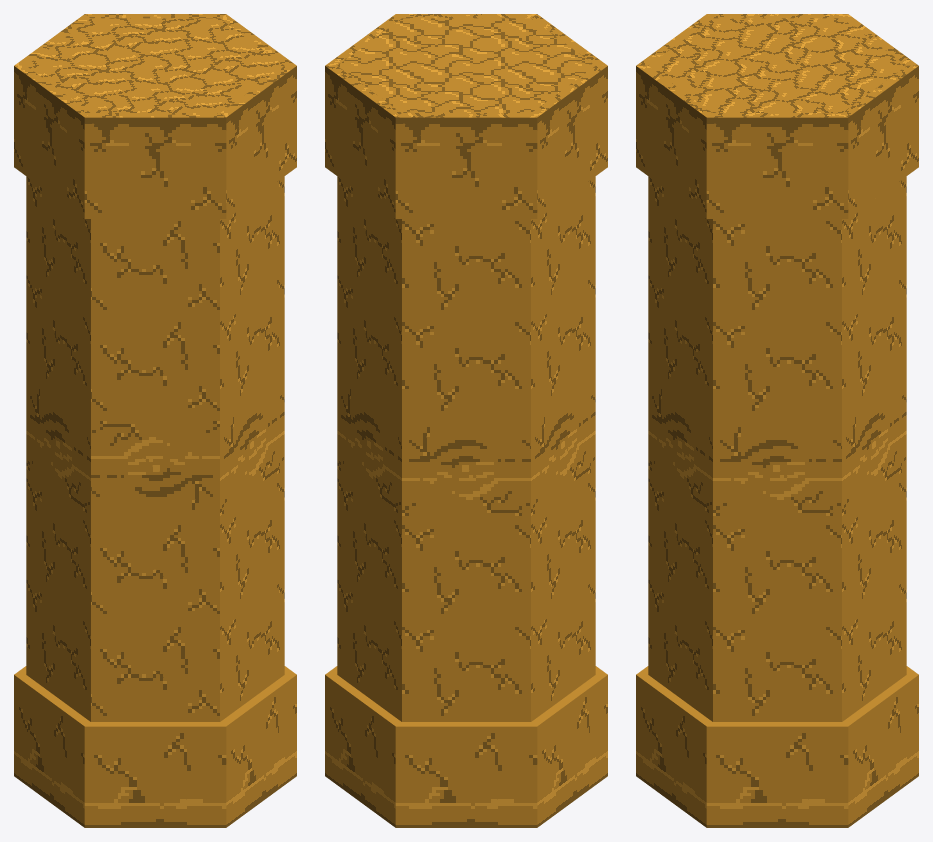
The model's file is pillar_2.gltf.
3 renders of one model, left to right at view 1: azimuth 30°, elevation 25°; view 2: azimuth 150°, elevation 25°; view 3: azimuth 270°, elevation 25°, orthographic.
Visible parts, largest first — view 1: pillar_2-col; view 2: pillar_2-col; view 3: pillar_2-col.
Part boxes in pixels (<box>): pillar_2-col: <box>14,14,296,827</box>; pillar_2-col: <box>325,14,607,827</box>; pillar_2-col: <box>636,14,918,827</box>.
Size of the model in its own units: 8.75 by 28 by 10.11.
6 materials, 6 textured.
